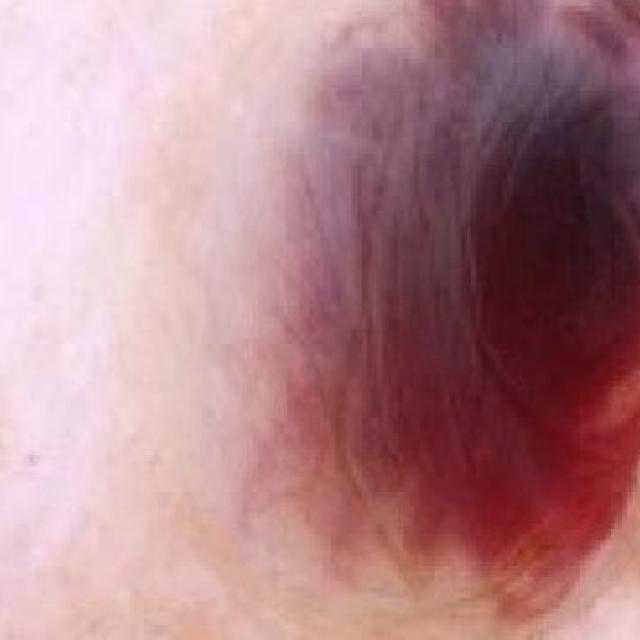VASC: (122, 0, 640, 640)
